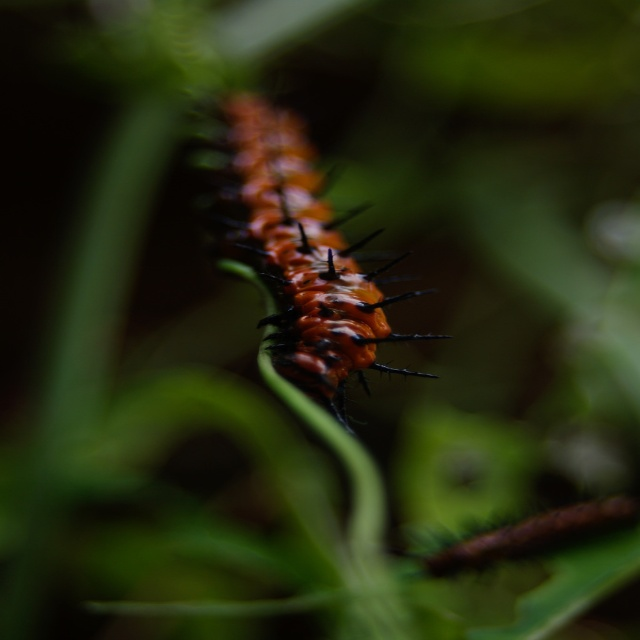Caterpillar: (189, 89, 462, 418)
